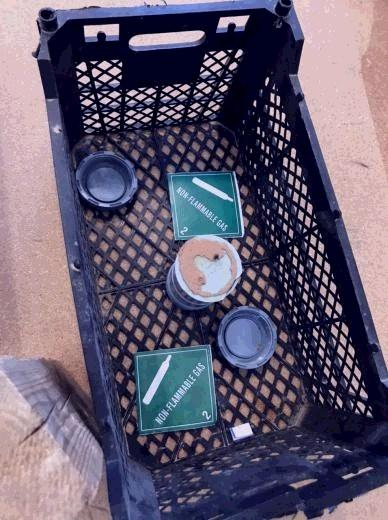non-flammable-gas: (135, 345, 219, 431), (167, 170, 244, 239)
